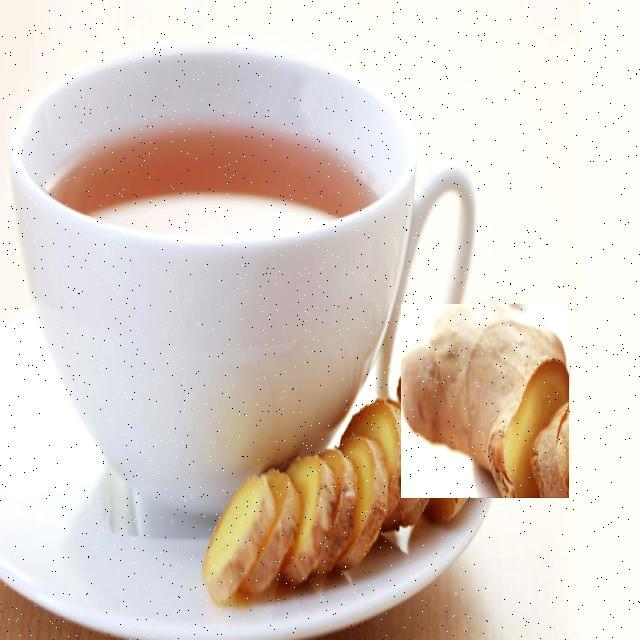ginger: (400, 304, 568, 496)
